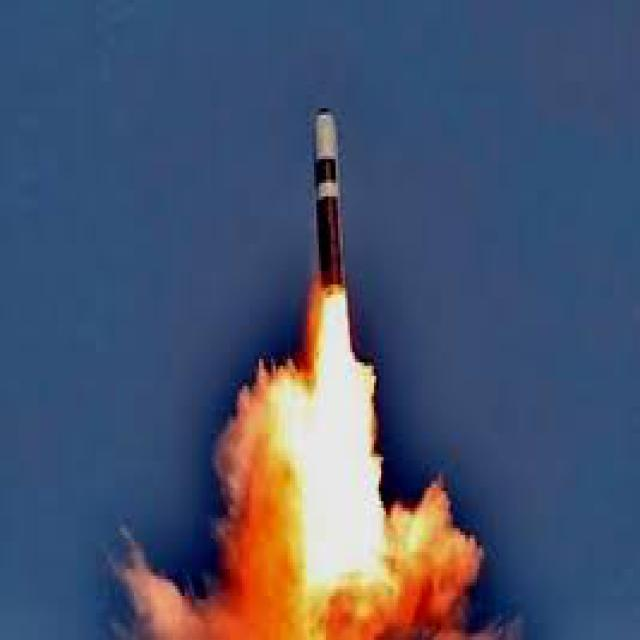missile: (308, 105, 348, 295)
